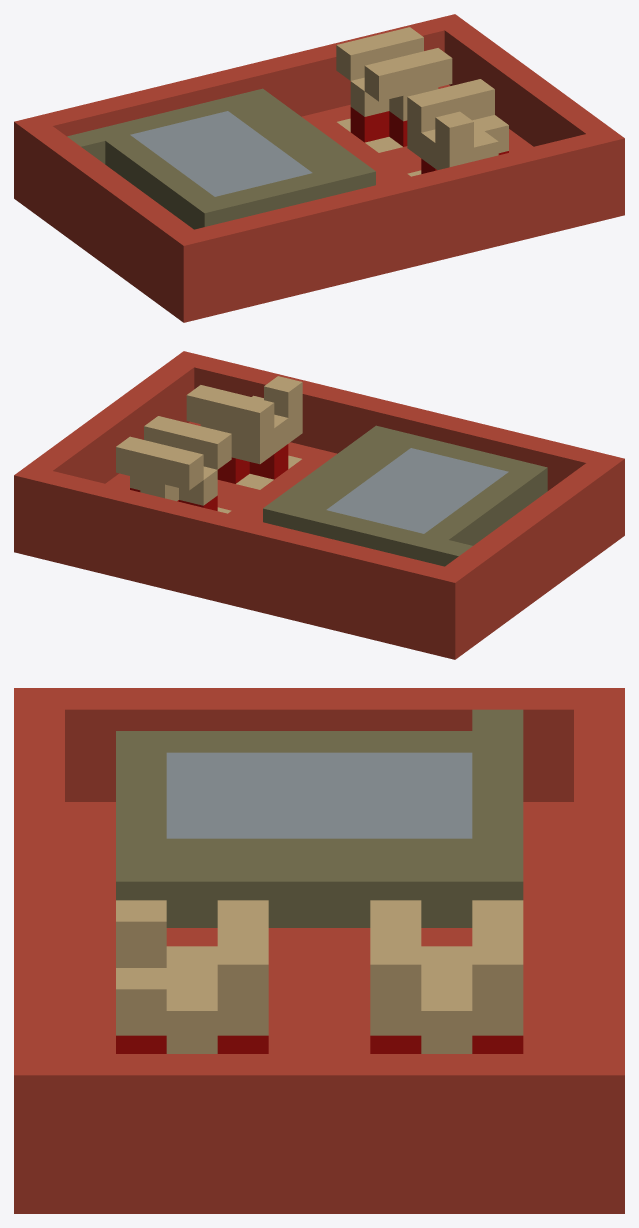
File: sewing_repair_kit.glb
The picture shows the model from 3 angles, top to bottom: view 1: azimuth 30°, elevation 25°; view 2: azimuth 150°, elevation 25°; view 3: azimuth 270°, elevation 25°; orthographic projection. The views are drawn at different scales.
Visible parts, largest first — view 1: equipment:repairKit; view 2: equipment:repairKit; view 3: equipment:repairKit.
Boxes of the visible parts, x1,y1,x2,y2 form: equipment:repairKit: [14, 14, 624, 322]; equipment:repairKit: [14, 351, 624, 659]; equipment:repairKit: [14, 688, 624, 1213].
Bounding box in the file's own units: 0.18 × 0.04 × 0.12.
